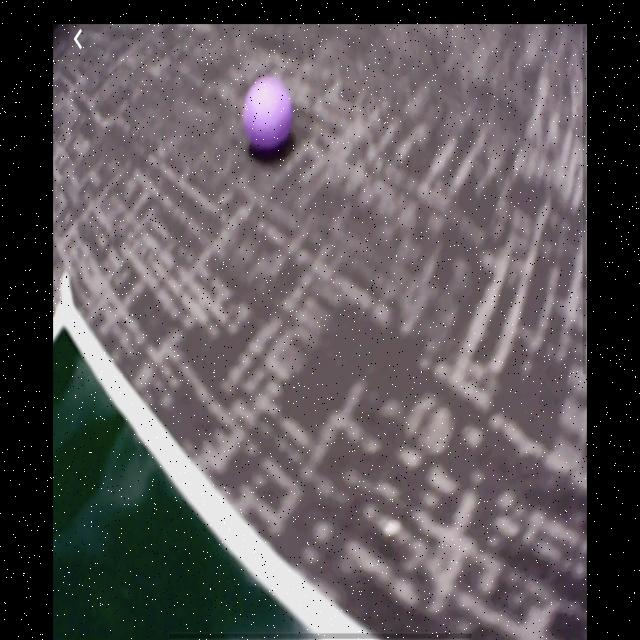ball: (242, 75, 295, 156)
